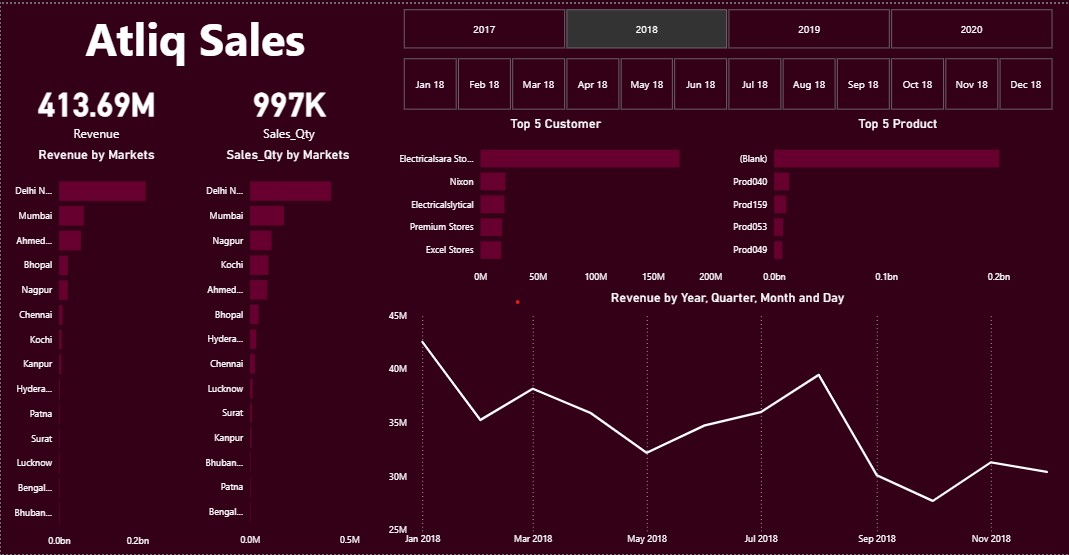

This screenshot's page, from the dashboard's own definition file:
{"tool":"powerbi","page":{"name":"Page 1","canvas":[1400,720],"ordinal":0},"visuals":[{"type":"card","fields":{"Values":["BaseMeasures.Revenue"]},"box":[0,89,250,98.2],"z":0},{"type":"card","fields":{"Values":["BaseMeasures.Sales_Qty"]},"box":[251.3,89,251.3,98.2],"z":1000},{"type":"barChart","title":"Revenue by Markets","fields":{"Category":["sales markets.markets_name"],"Y":["BaseMeasures.Revenue"]},"box":[0,187.2,250,534.1],"z":2000},{"type":"barChart","title":"Sales_Qty by Markets","fields":{"Category":["sales markets.markets_name"],"Y":["BaseMeasures.Sales_Qty"]},"box":[250,187.2,251.3,532.8],"z":3000},{"type":"slicer","fields":{"Values":["sales date.cy_date"]},"box":[501.1,64.8,898.6,80.6],"z":4000},{"type":"slicer","fields":{"Values":["sales date.year"]},"box":[501.1,0,898.6,64.8],"z":5000},{"type":"barChart","title":"Top 5 Customer","fields":{"Category":["sales customers.custmer_name"],"Y":["BaseMeasures.Revenue"]},"box":[502.5,146,447.2,229],"z":6000},{"type":"barChart","title":" Top 5 Product","fields":{"Category":["sales products.product_code"],"Y":["BaseMeasures.Revenue"]},"box":[949.7,146,450.3,229],"z":7000},{"type":"lineChart","fields":{"Y":["BaseMeasures.Revenue"],"Category":["sales date.cy_date.Variation.Date Hierarchy.Year","sales date.cy_date.Variation.Date Hierarchy.Quarter","sales date.cy_date.Variation.Date Hierarchy.Month","sales date.cy_date.Variation.Date Hierarchy.Day"]},"box":[502.5,375,897.5,344.2],"z":8000},{"type":"textbox","box":[50.4,0,409,89.3],"z":8001}]}

Visuals, with their boxes in screenshot pixels (x1, y1, x2, y2), scaled from the page's 1400x720 canvas onto the 1069x555 screenshot:
card - BaseMeasures.Revenue: crop(0, 69, 191, 144)
card - BaseMeasures.Sales_Qty: crop(192, 69, 384, 144)
"Revenue by Markets" barChart: crop(0, 144, 191, 554)
"Sales_Qty by Markets" barChart: crop(191, 144, 383, 554)
slicer - sales date.cy_date: crop(383, 50, 1068, 112)
slicer - sales date.year: crop(383, 0, 1068, 50)
"Top 5 Customer" barChart: crop(384, 113, 725, 289)
" Top 5 Product" barChart: crop(725, 113, 1068, 289)
lineChart - BaseMeasures.Revenue x sales date.cy_date.Variation.Date Hierarchy.Year: crop(384, 289, 1068, 554)
textbox: crop(38, 0, 351, 69)
